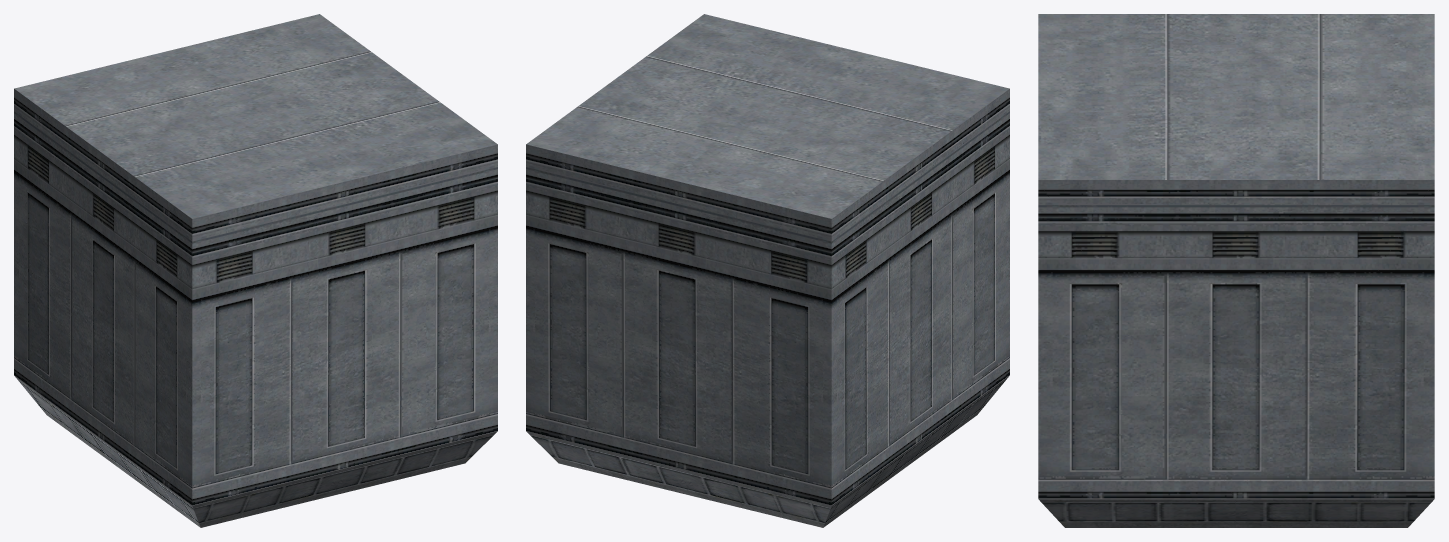
Rendered from poi_all_impl_crate_big_s01_l2.fbx.
3 views of the same model, side by side, from view 1: azimuth 30°, elevation 25°; view 2: azimuth 150°, elevation 25°; view 3: azimuth 270°, elevation 25° (orthographic). The views are drawn at different scales.
Parts seen in each view (by area): view 1: mesh_node; view 2: mesh_node; view 3: mesh_node.
Part boxes in pixels (left/top/right/bottom): mesh_node: left=14, top=14, right=497, bottom=527; mesh_node: left=526, top=14, right=1009, bottom=527; mesh_node: left=1038, top=14, right=1434, bottom=527.
Size of the model in its own units: 3.41 by 3.44 by 3.44.
